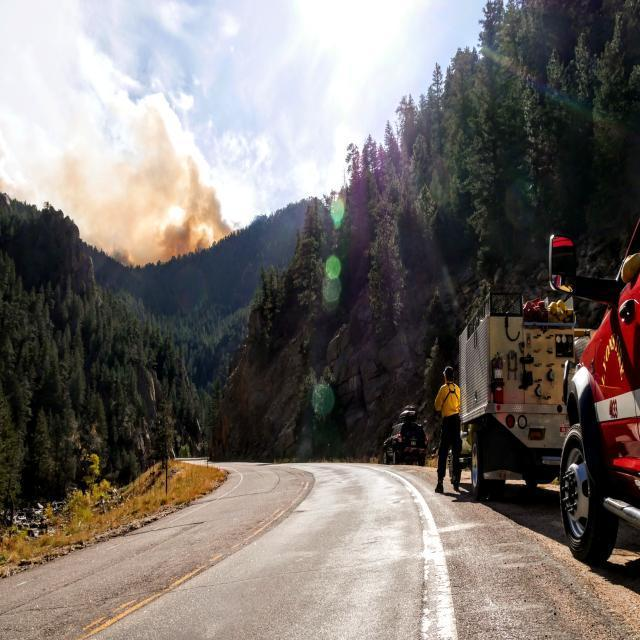Smoke: (62, 71, 244, 260)
